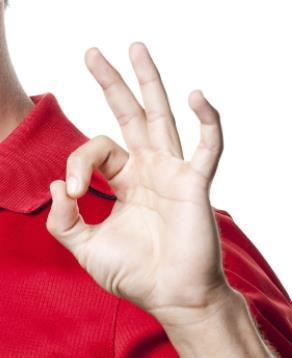left: (40, 36, 230, 310)
